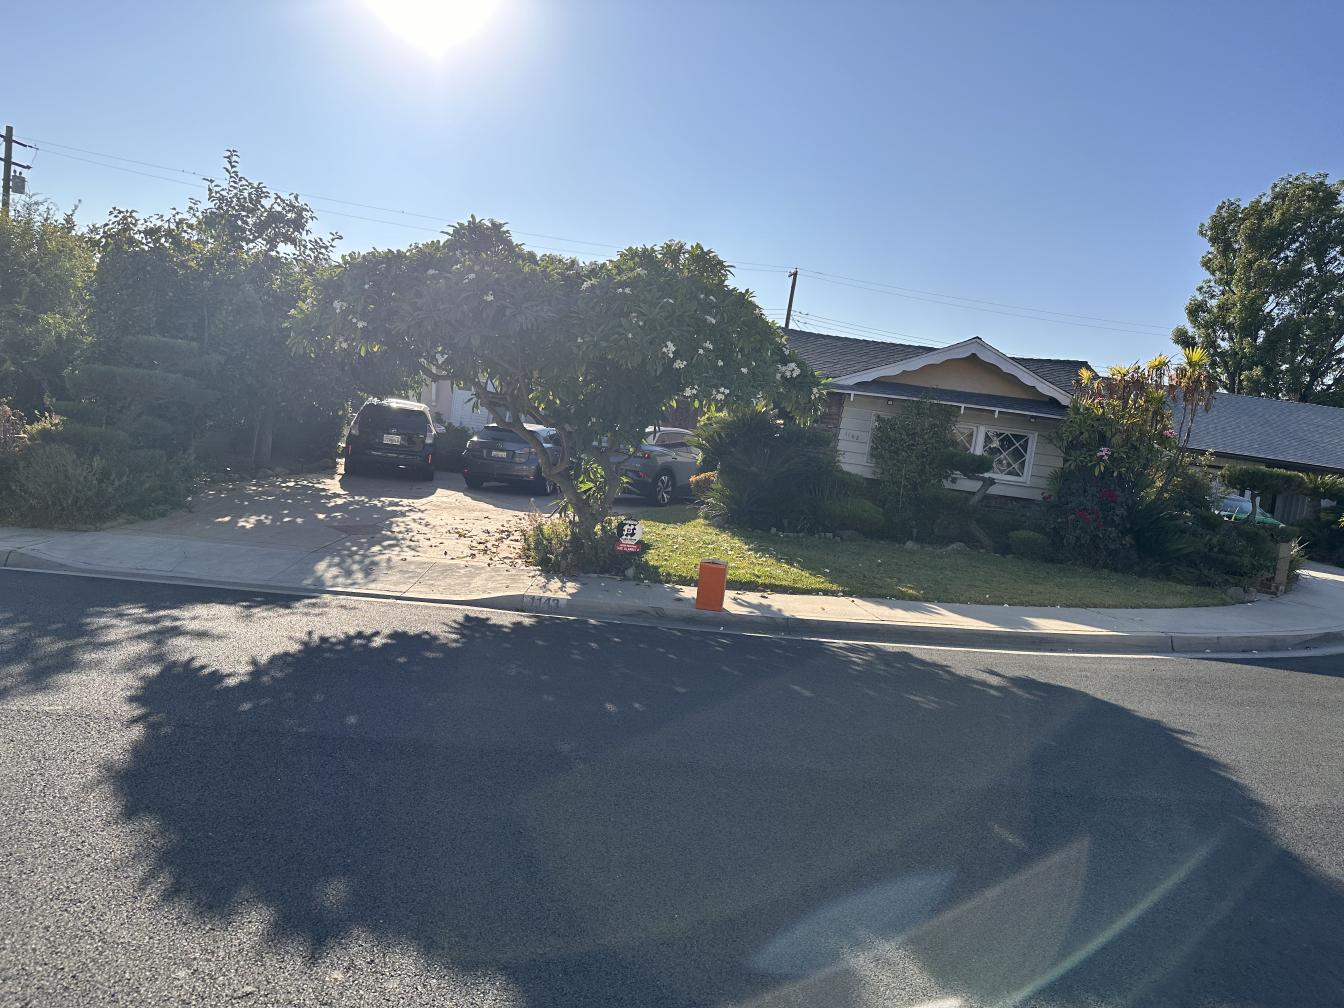curbs-laRr: (995, 626, 1344, 656), (750, 612, 989, 654), (517, 592, 689, 625)
orange box: (697, 559, 731, 613)
